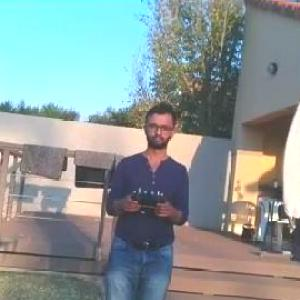follow: (98, 100, 193, 299)
